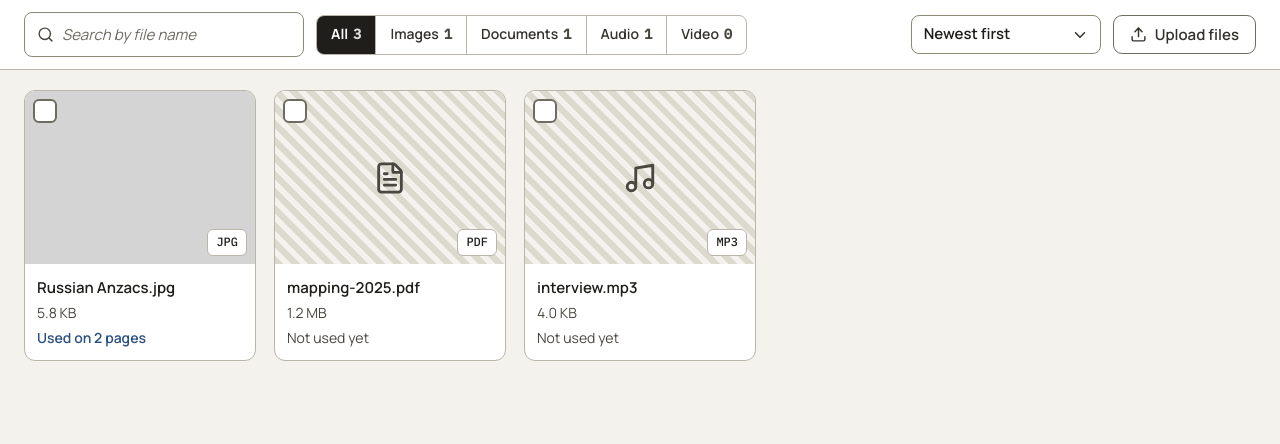
MediaBrowser in manage mode › forgets a pending delete confirmation when the selection changes
Expected: the link "Russian Anzacs.jpg" is shown, [37, 277, 175, 298]
Click the checkbox named "Select mapping-2025.pdf" at (390, 178), box [275, 91, 505, 264]
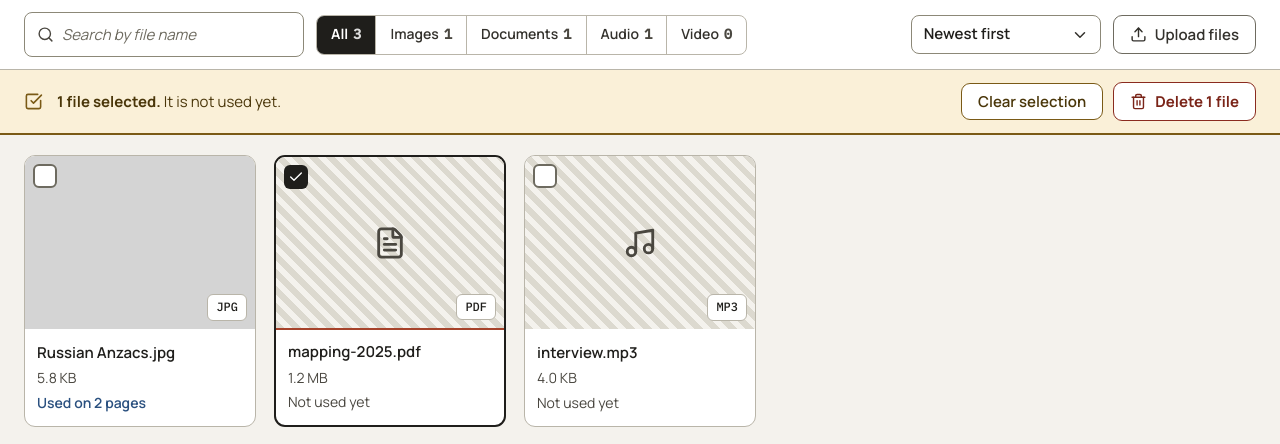
Click the button "Delete 1 file" at (1185, 102), box [1113, 82, 1256, 121]
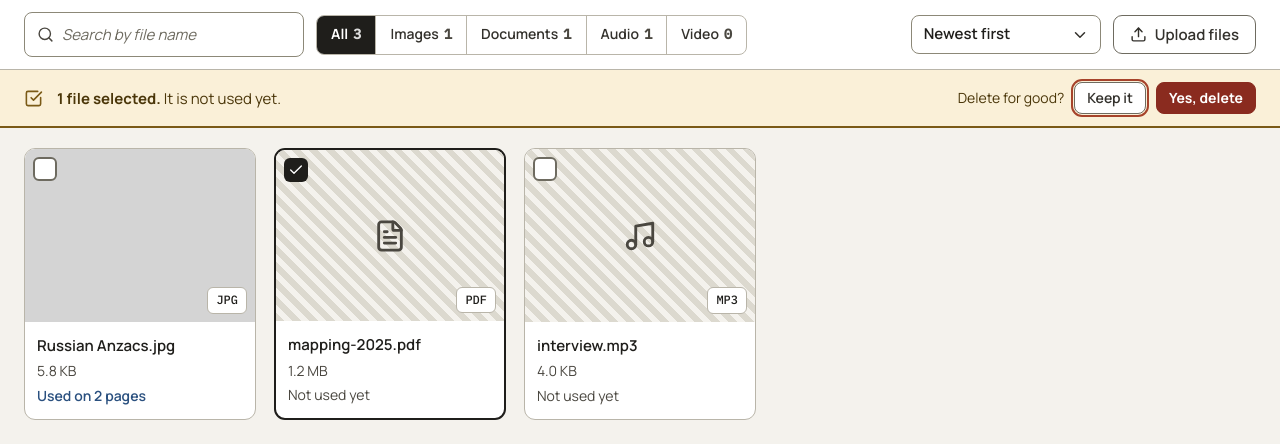
Expected: the button "Yes, delete" is shown, [1156, 82, 1256, 114]
Note: Untick, tick something else: back to the first step, never straight to "Yes, delete".
Click the checkbox named "Select mapping-2025.pdf" at (390, 236), box [276, 150, 504, 321]
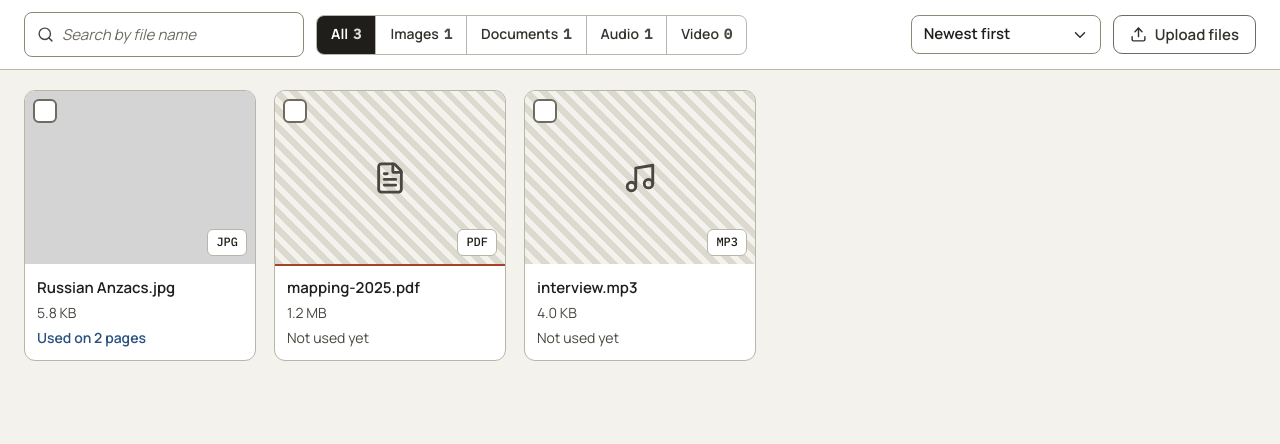
Click the checkbox named "Select interview.mp3" at (640, 178), box [525, 91, 755, 264]
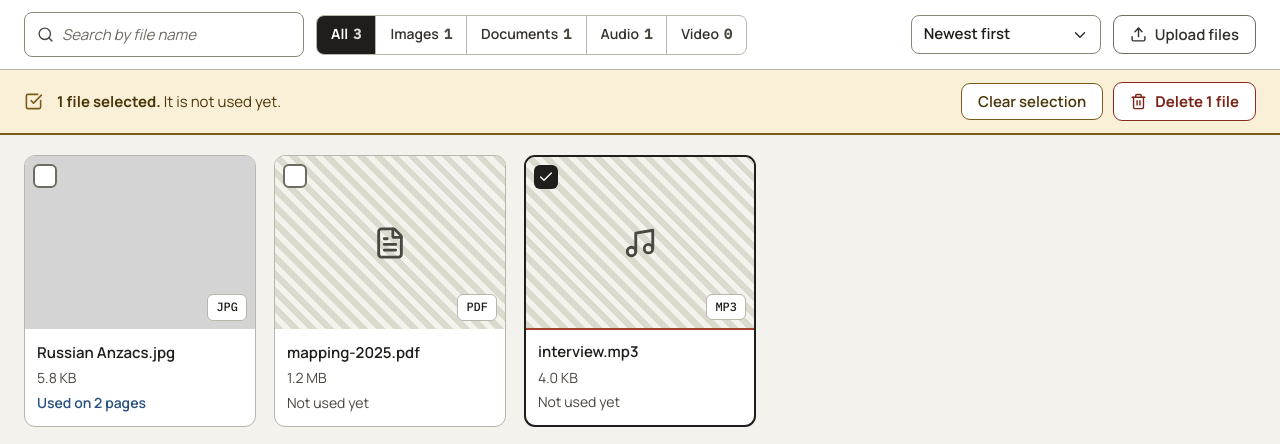
Expected: the button "Yes, delete" is not shown
Expected: the button "Delete 1 file" is shown, [1113, 82, 1256, 121]
